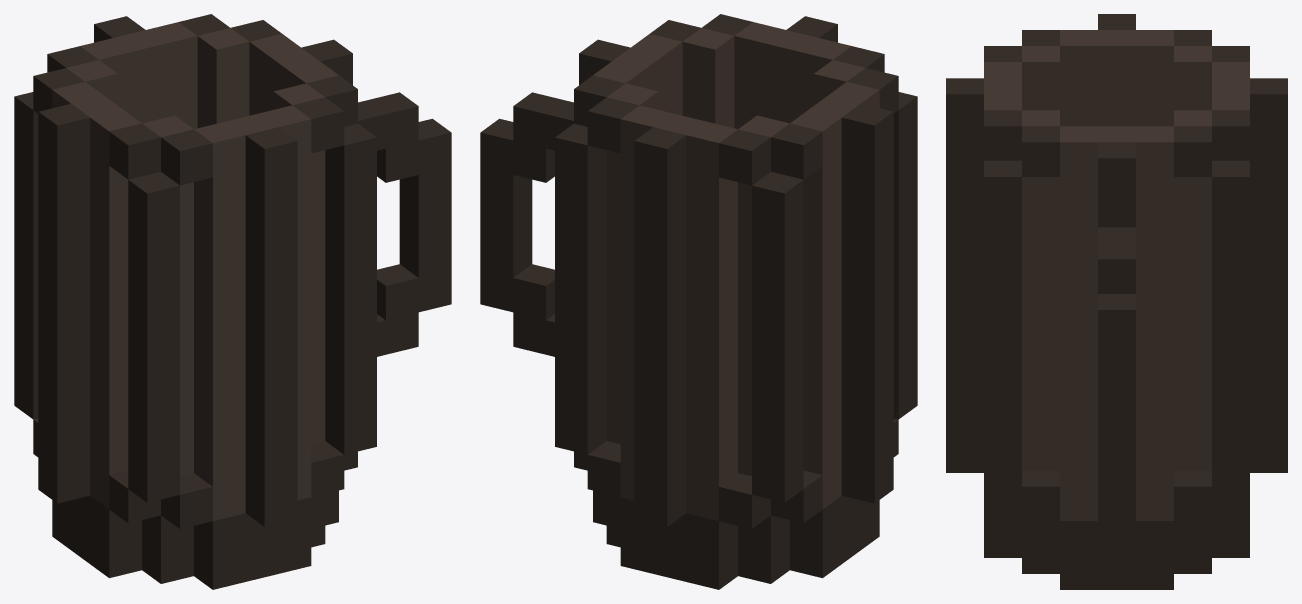
File: MugHalfBeer.obj
3 renders of one model, left to right at view 1: azimuth 30°, elevation 25°; view 2: azimuth 150°, elevation 25°; view 3: azimuth 270°, elevation 25°, orthographic.
Bounding box in the file's own units: 1.2 × 1.3 × 0.9.
1 material, 1 textured.
